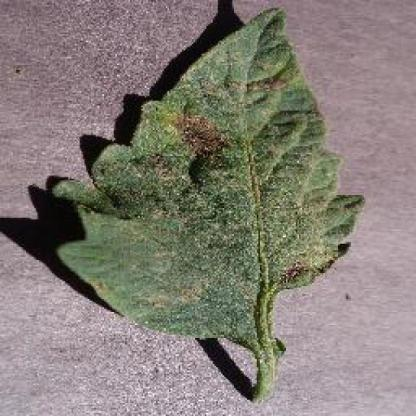Tomato_Blight: (50, 18, 362, 338)
